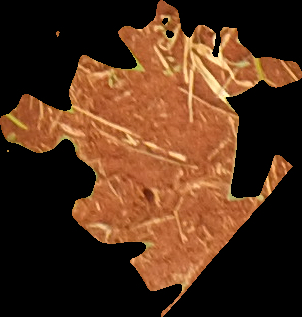soil: (2, 4, 302, 315)
